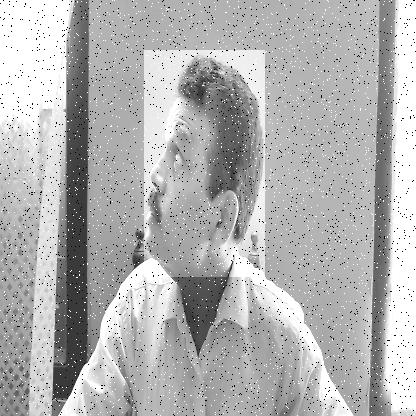Distracted: (144, 50, 265, 277)
